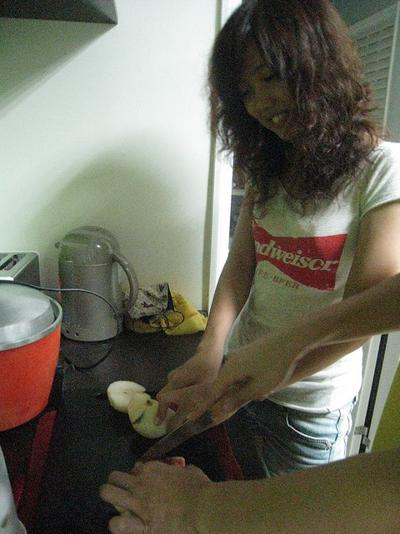person: (155, 3, 400, 477)
